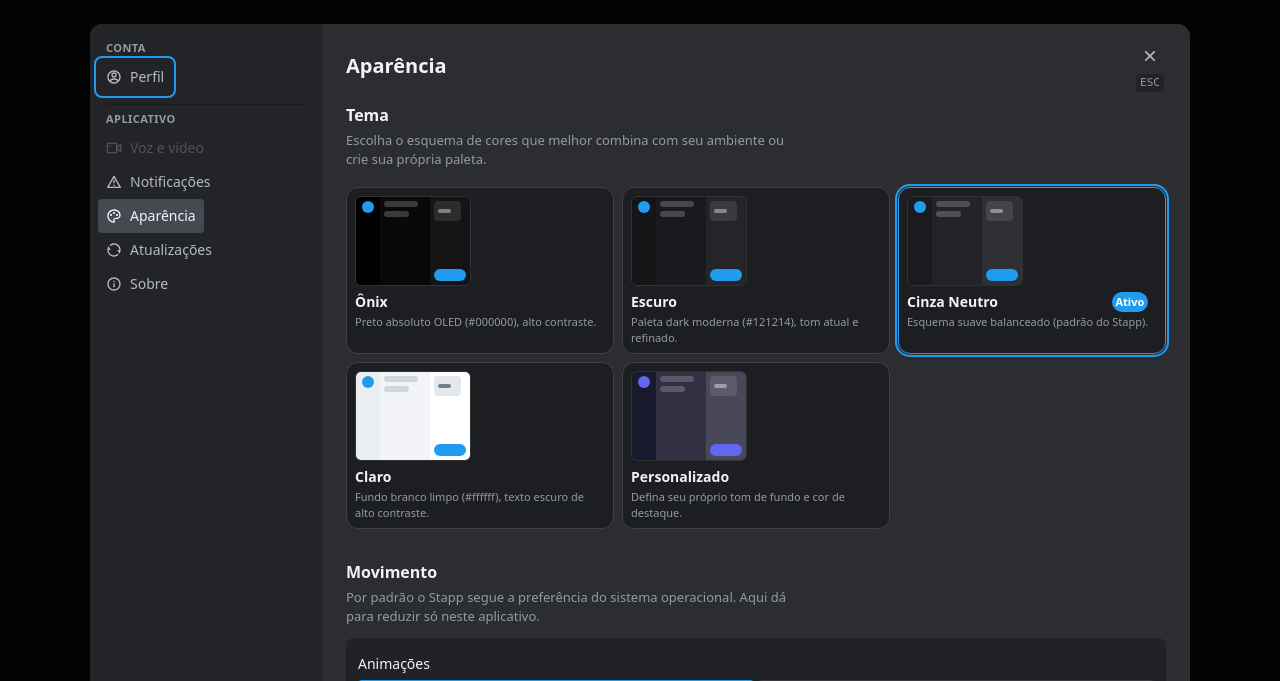
appearance settings › UI de AppSettings - Aparência › renderiza os 5 cartões visuais de tema e troca o tema ao clicar
Expected: the radio button with aria-label "Selecionar tema Escuro" is shown, top-left (622, 187), bottom-right (890, 354)
Expected: the radio button with aria-label "Selecionar tema Cinza Neutro" is shown, top-left (898, 187), bottom-right (1166, 354)
# Clicar no tema Ônix
Click the radio button with aria-label "Selecionar tema Ônix" at (413, 241), box top-left (346, 187), bottom-right (614, 354)
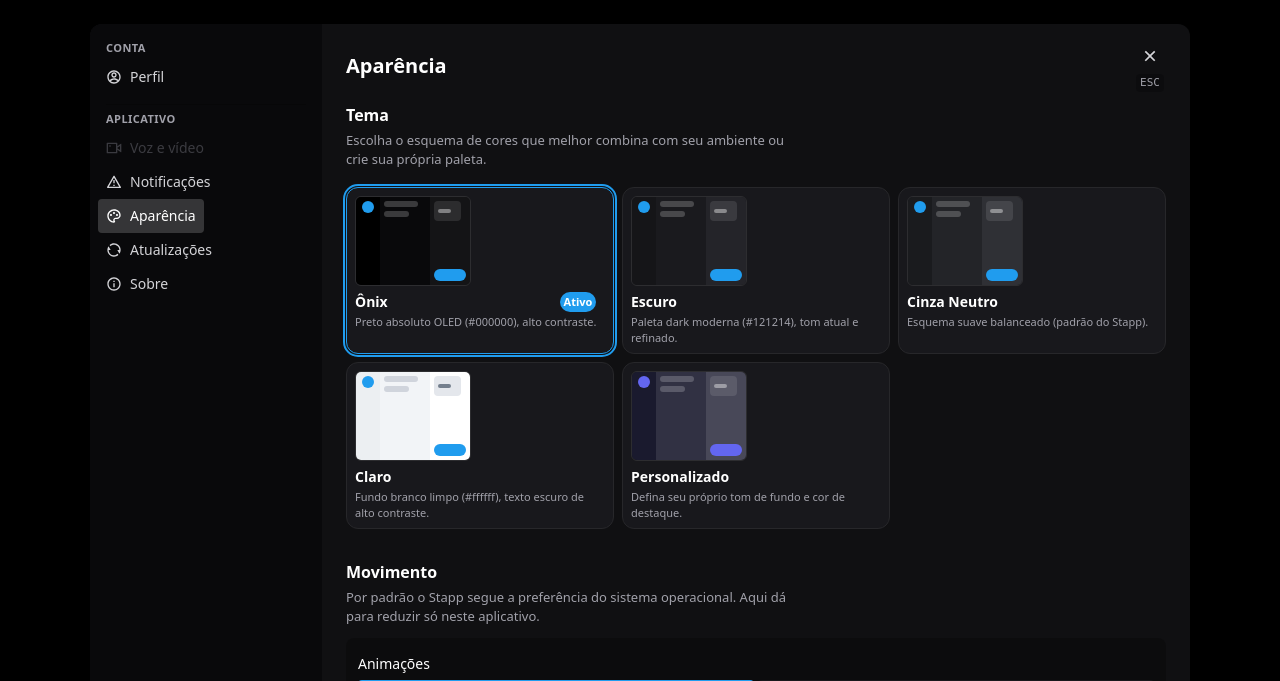
# Clicar no tema Claro
Click the radio button with aria-label "Selecionar tema Claro" at (413, 416), box top-left (346, 362), bottom-right (614, 529)
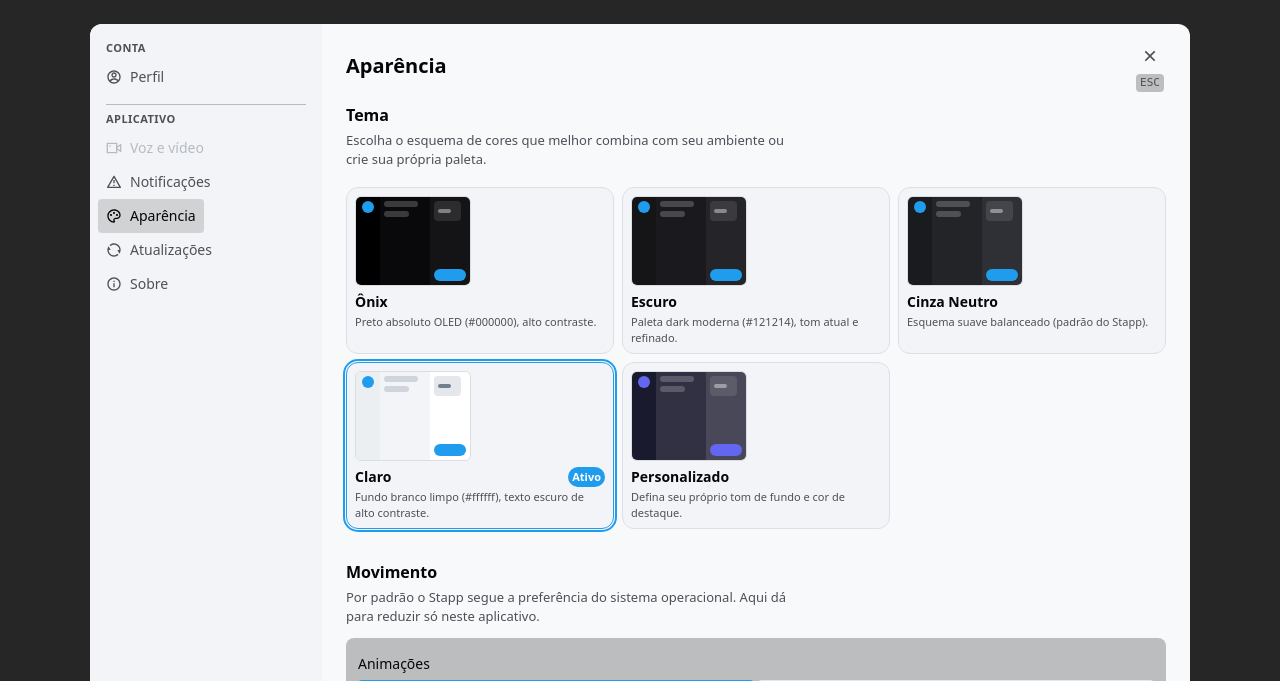
# Clicar no tema Personalizado e verificar que campos de cor aparecem
Click the radio button with aria-label "Selecionar tema Personalizado" at (689, 416), box top-left (622, 362), bottom-right (890, 529)
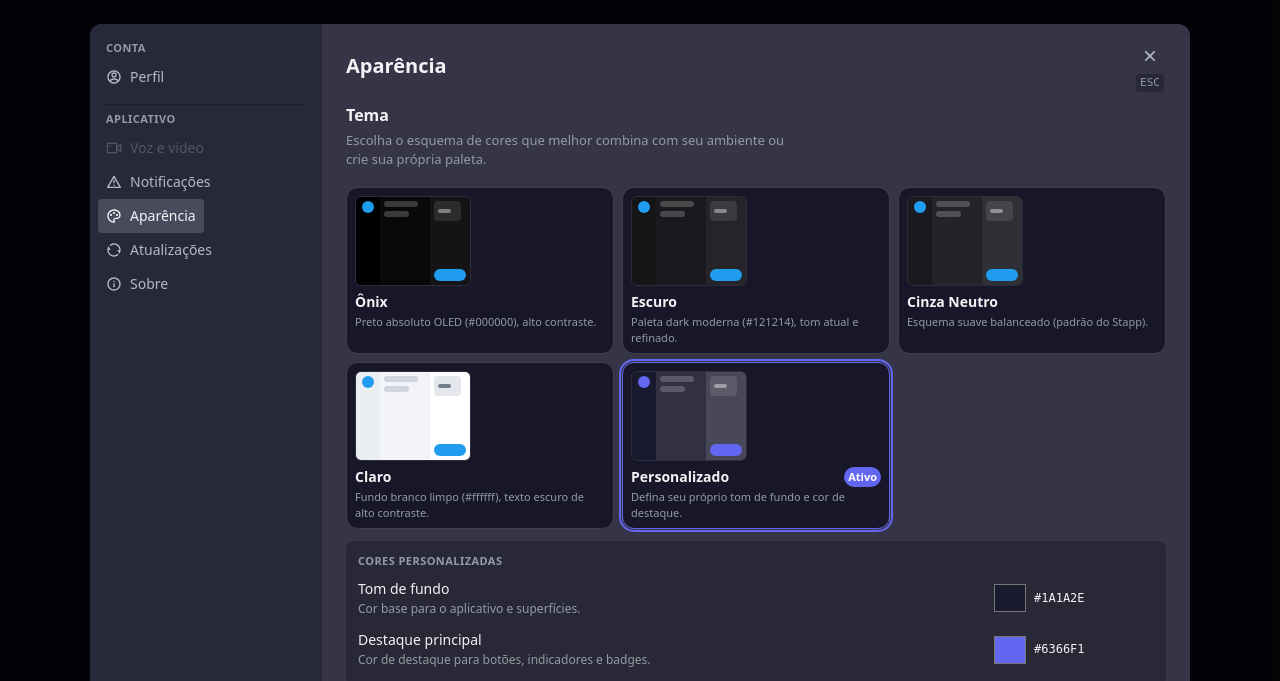
Now the colour field named "Selecionar tom de fundo personalizado" is shown, box top-left (992, 580), bottom-right (1028, 616)
Now the colour field named "Selecionar cor de destaque personalizada" is shown, box top-left (992, 632), bottom-right (1028, 668)
